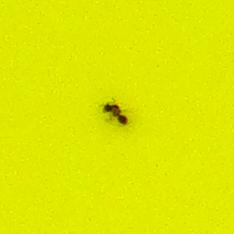Hymenoptera: (100, 100, 134, 134)
